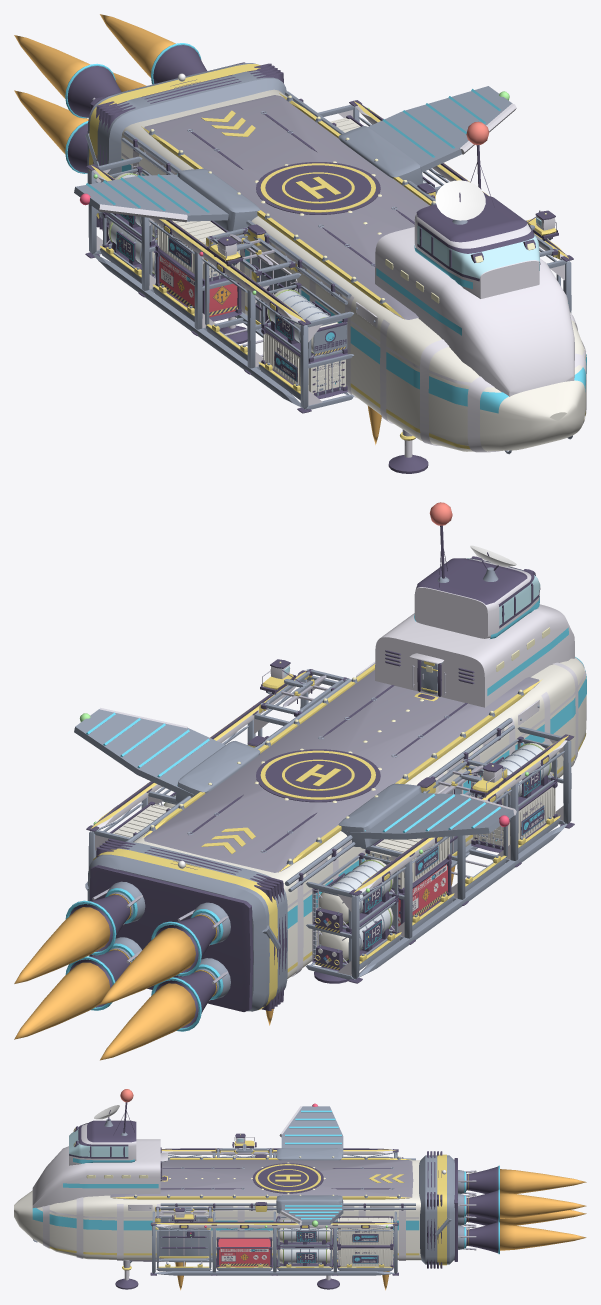
Rendered from ships.glb.
The picture shows the model from 3 angles, top to bottom: view 1: azimuth 30°, elevation 25°; view 2: azimuth 150°, elevation 25°; view 3: azimuth 270°, elevation 25°; orthographic projection. The views are drawn at different scales.
Visible parts, largest first — view 1: f_hull, f_deck, f_bridgeLo, f_rad1, f_thrustFrame, f_padDisc, f_rad-1, f_pilotHouse, f_belt, f_pilotRoof, f_pilotGlass, f_radRoot1 (+31 smaller); view 2: f_deck, f_bridgeLo, f_hull, f_heatShield, f_thrustFrame, f_rad1, f_rad-1, f_padDisc, f_pilotHouse, f_plume2_flame, f_plume1_flame, f_plume0_flame (+25 smaller); view 3: f_hull, f_deck, f_bridgeLo, f_thrustFrame, f_rad-1, f_belt, f_padDisc, f_plume1_flame, f_plume3_flame, f_plume0_flame, f_e13plate, f_railLow1 (+37 smaller).
Boxes of the visible parts, x1=… form: f_hull: x1=121, y1=89, x2=586, y2=451; f_deck: x1=144, y1=95, x2=429, y2=319; f_bridgeLo: x1=375, y1=227, x2=574, y2=396; f_rad1: x1=368, y1=86, x2=512, y2=172; f_thrustFrame: x1=87, y1=63, x2=286, y2=223; f_padDisc: x1=256, y1=162, x2=380, y2=214; f_rad-1: x1=74, y1=174, x2=228, y2=221; f_pilotHouse: x1=414, y1=213, x2=539, y2=298; f_belt: x1=121, y1=159, x2=586, y2=413; f_pilotRoof: x1=416, y1=195, x2=527, y2=242; f_pilotGlass: x1=417, y1=225, x2=540, y2=278; f_radRoot1: x1=338, y1=126, x2=423, y2=185; f_deck: x1=144, y1=670, x2=539, y2=872; f_bridgeLo: x1=375, y1=604, x2=574, y2=707; f_hull: x1=133, y1=657, x2=586, y2=978; f_heatShield: x1=89, y1=865, x2=253, y2=1011; f_thrustFrame: x1=87, y1=841, x2=287, y2=1011; f_rad1: x1=74, y1=709, x2=225, y2=797; f_rad-1: x1=347, y1=793, x2=514, y2=839; f_padDisc: x1=256, y1=749, x2=380, y2=802; f_pilotHouse: x1=414, y1=559, x2=539, y2=638; f_plume2_flame: x1=100, y1=983, x2=195, y2=1060; f_plume1_flame: x1=14, y1=907, x2=110, y2=983; f_plume0_flame: x1=100, y1=928, x2=195, y2=1004; f_hull: x1=14, y1=1160, x2=421, y2=1260; f_deck: x1=110, y1=1160, x2=413, y2=1199; f_bridgeLo: x1=32, y1=1139, x2=160, y2=1207; f_thrustFrame: x1=419, y1=1155, x2=454, y2=1264; f_rad-1: x1=281, y1=1106, x2=343, y2=1157; f_belt: x1=32, y1=1207, x2=419, y2=1230; f_padDisc: x1=252, y1=1163, x2=323, y2=1193; f_plume1_flame: x1=500, y1=1193, x2=586, y2=1218; f_plume3_flame: x1=500, y1=1224, x2=586, y2=1250; f_plume0_flame: x1=500, y1=1169, x2=586, y2=1193; f_e13plate: x1=158, y1=1218, x2=209, y2=1256; f_railLow1: x1=152, y1=1271, x2=394, y2=1275.
Size of the model in its own units: 42.02 by 32.22 by 85.25.
